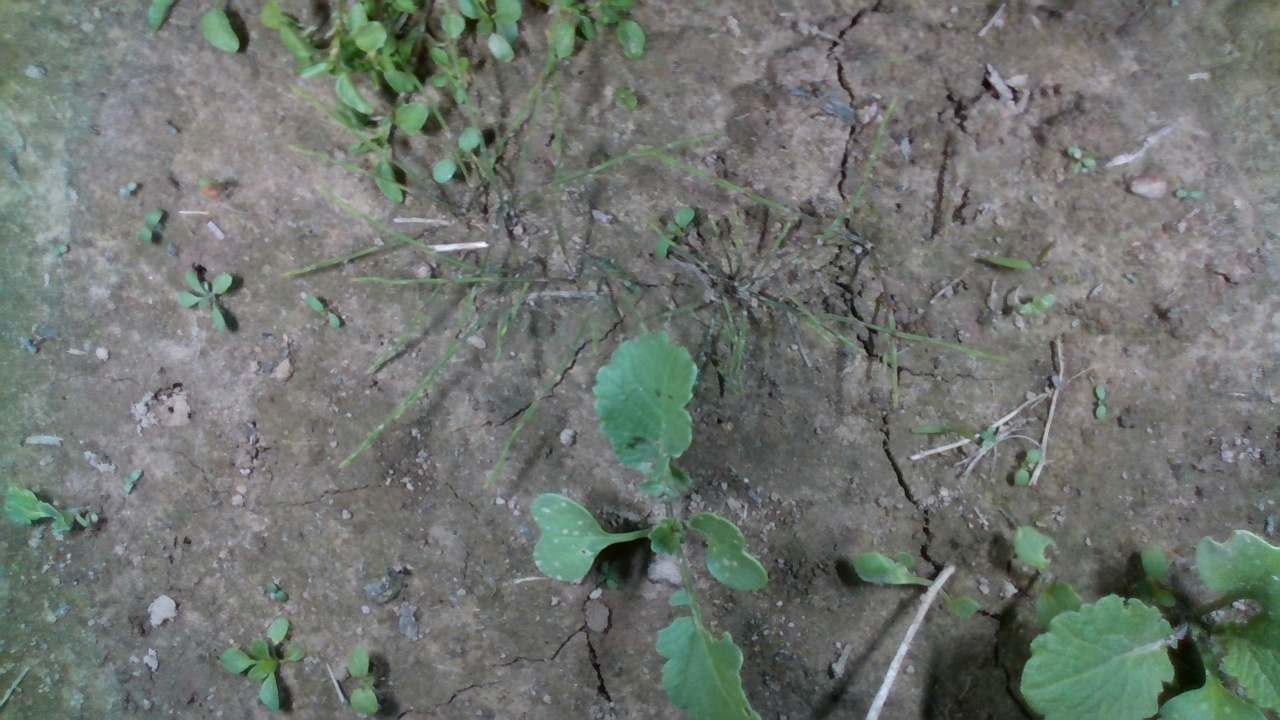weed: (166, 262, 244, 331), (344, 648, 380, 715), (133, 205, 181, 246), (298, 289, 350, 326), (1062, 143, 1100, 182), (1013, 446, 1043, 486), (122, 465, 149, 498), (116, 177, 152, 200), (1094, 385, 1108, 419)
